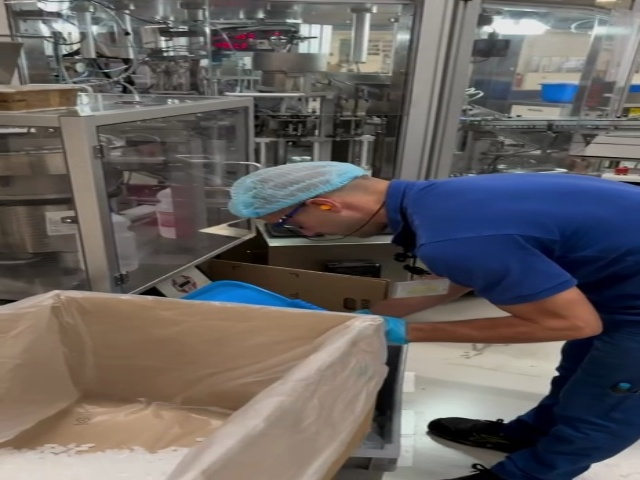Earplug: (306, 195, 344, 217)
Hairnet: (228, 158, 353, 222)
No_Helmet: (229, 159, 365, 218)
No_Vest: (392, 180, 640, 302)
Person: (227, 157, 640, 480)
Safety_Goggles: (271, 192, 309, 232)
